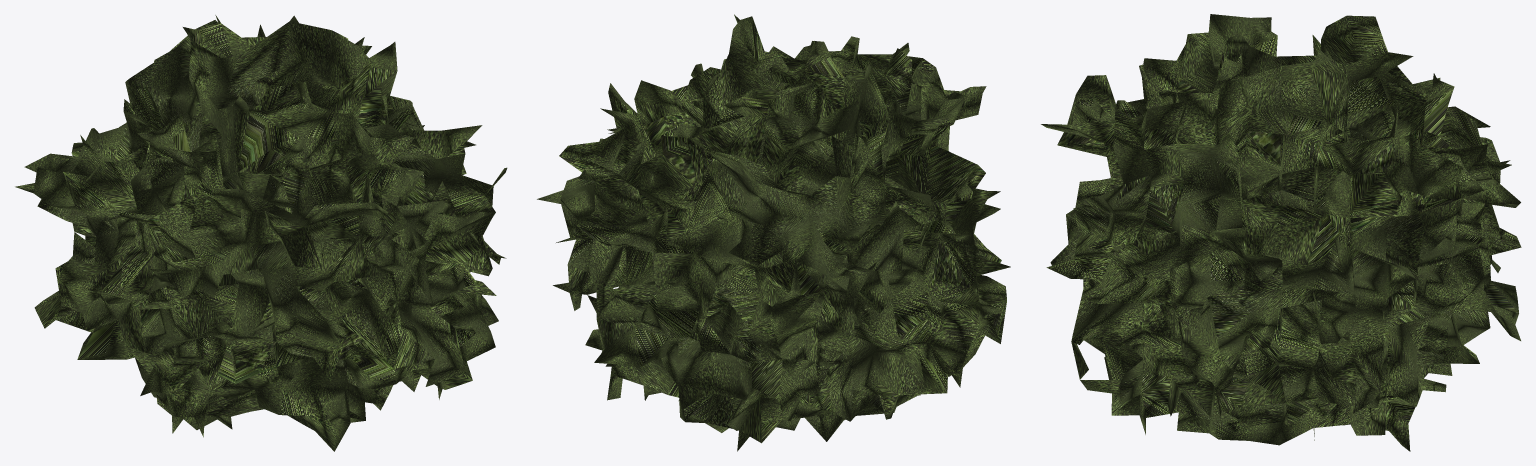
Rendered from bramble.glb.
3 renders of one model, left to right at view 1: azimuth 30°, elevation 25°; view 2: azimuth 150°, elevation 25°; view 3: azimuth 270°, elevation 25°, orthographic. The views are drawn at different scales.
Bounding box in the file's own units: 1.97 × 1.64 × 1.96.
1 material, 1 textured.
